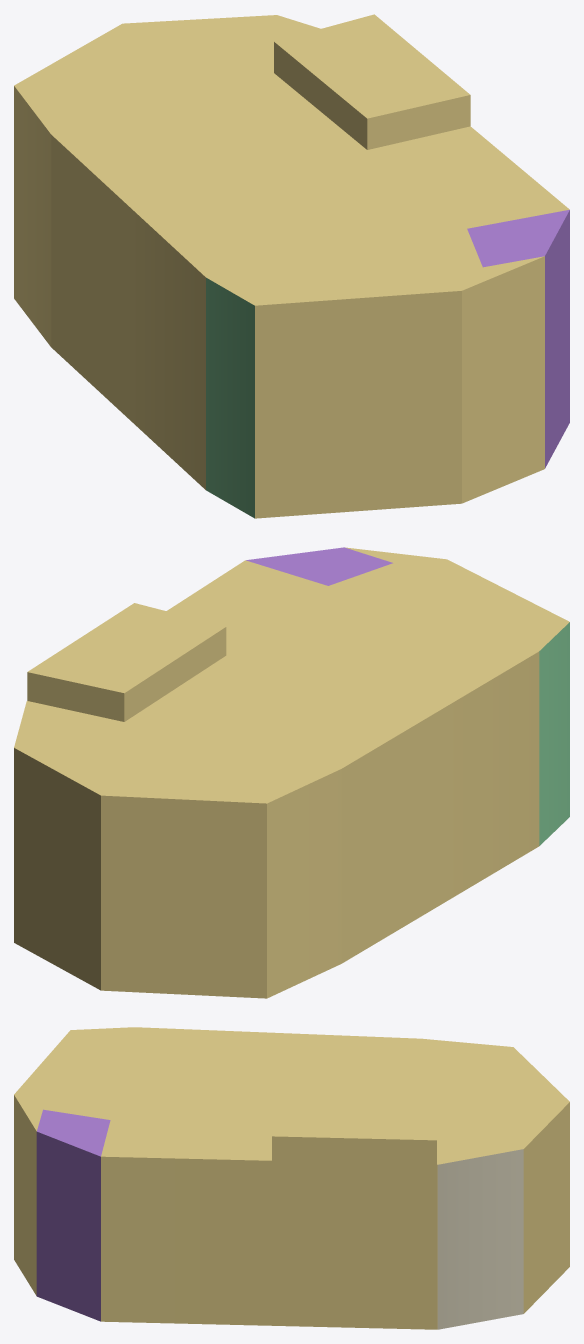
File: Kyle_B_1_2.fbx
The picture shows the model from 3 angles, top to bottom: view 1: azimuth 30°, elevation 25°; view 2: azimuth 150°, elevation 25°; view 3: azimuth 270°, elevation 25°; orthographic projection. The views are drawn at different scales.
Visible parts, largest first — view 1: Kyle_B_1_2; view 2: Kyle_B_1_2; view 3: Kyle_B_1_2.
Boxes of the visible parts, bbox=[...] form: Kyle_B_1_2: bbox=[14, 14, 569, 518]; Kyle_B_1_2: bbox=[14, 547, 569, 998]; Kyle_B_1_2: bbox=[14, 1027, 569, 1329].
Size of the model in its own units: 1702 by 1092 by 2906.
